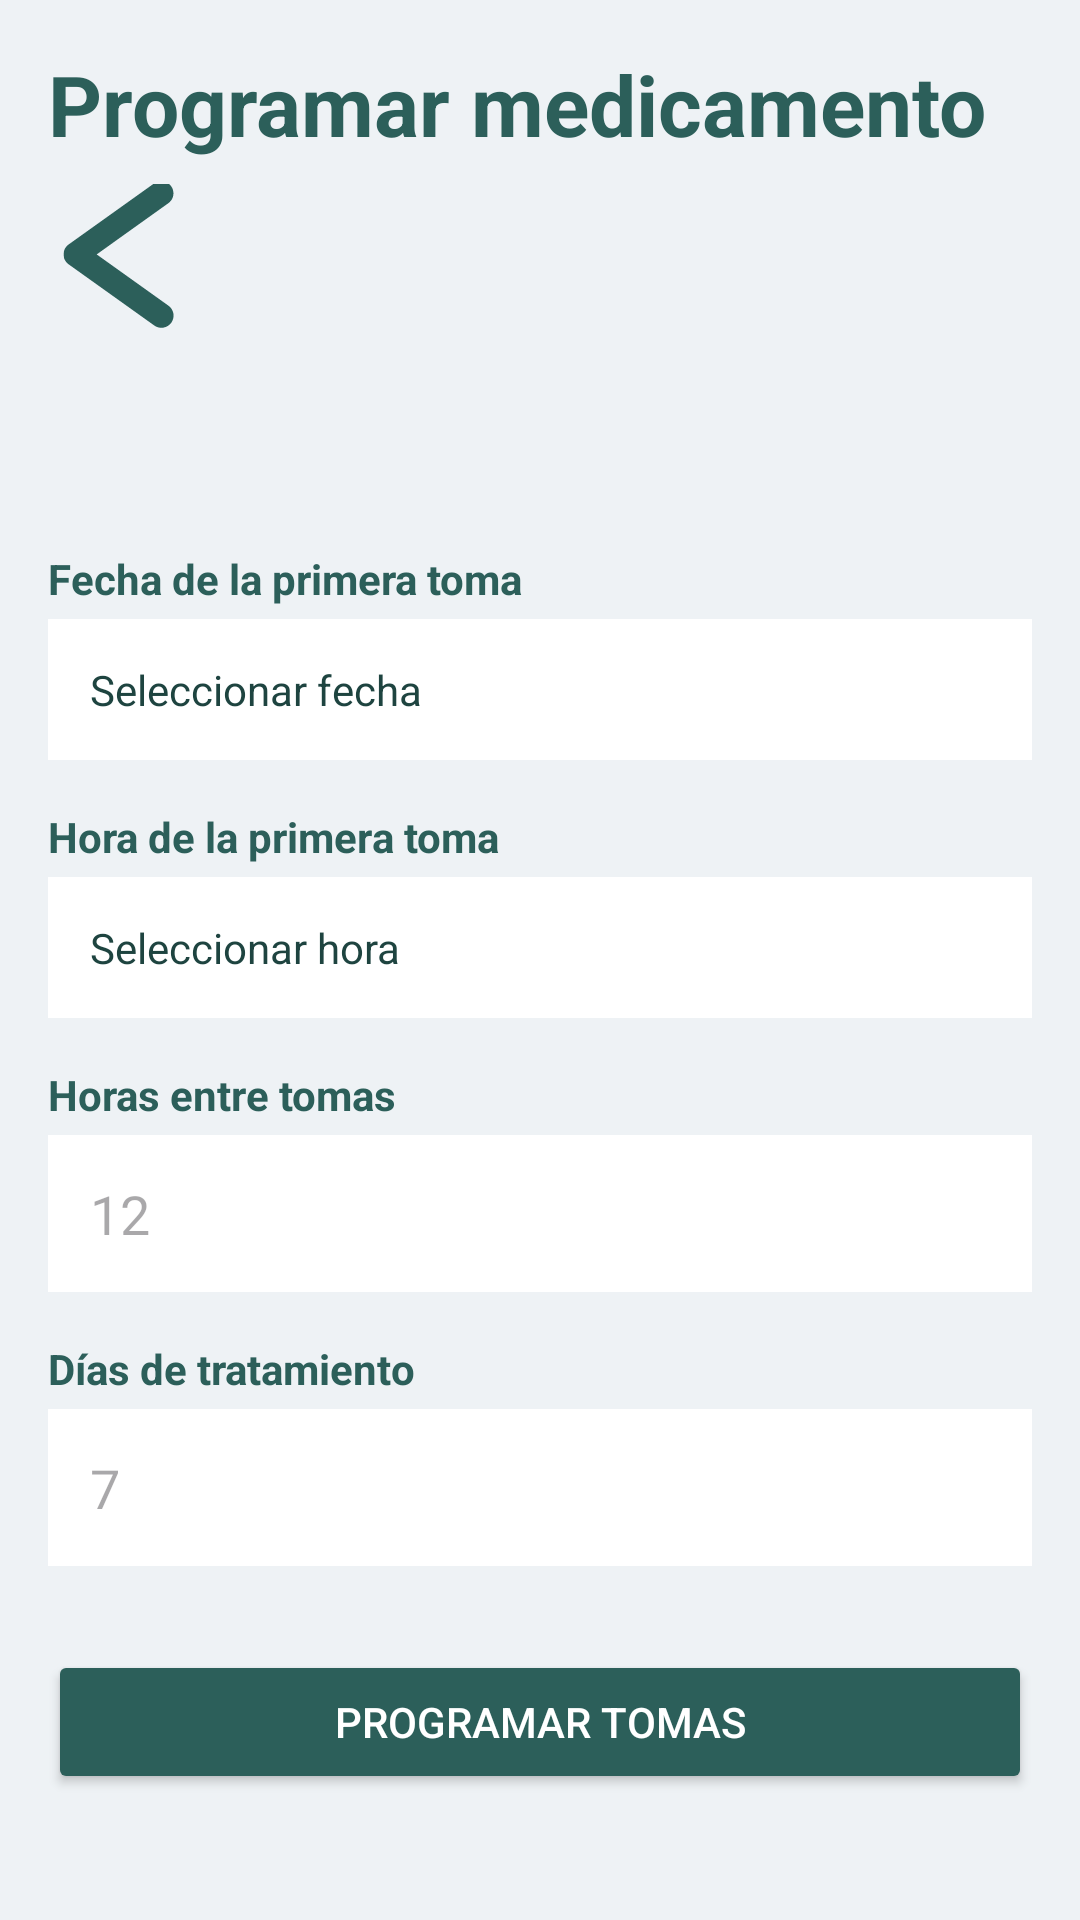

Icon click points for this 1080*1920 phone screenshot, format [x,y]:
Volver: [118,256]
